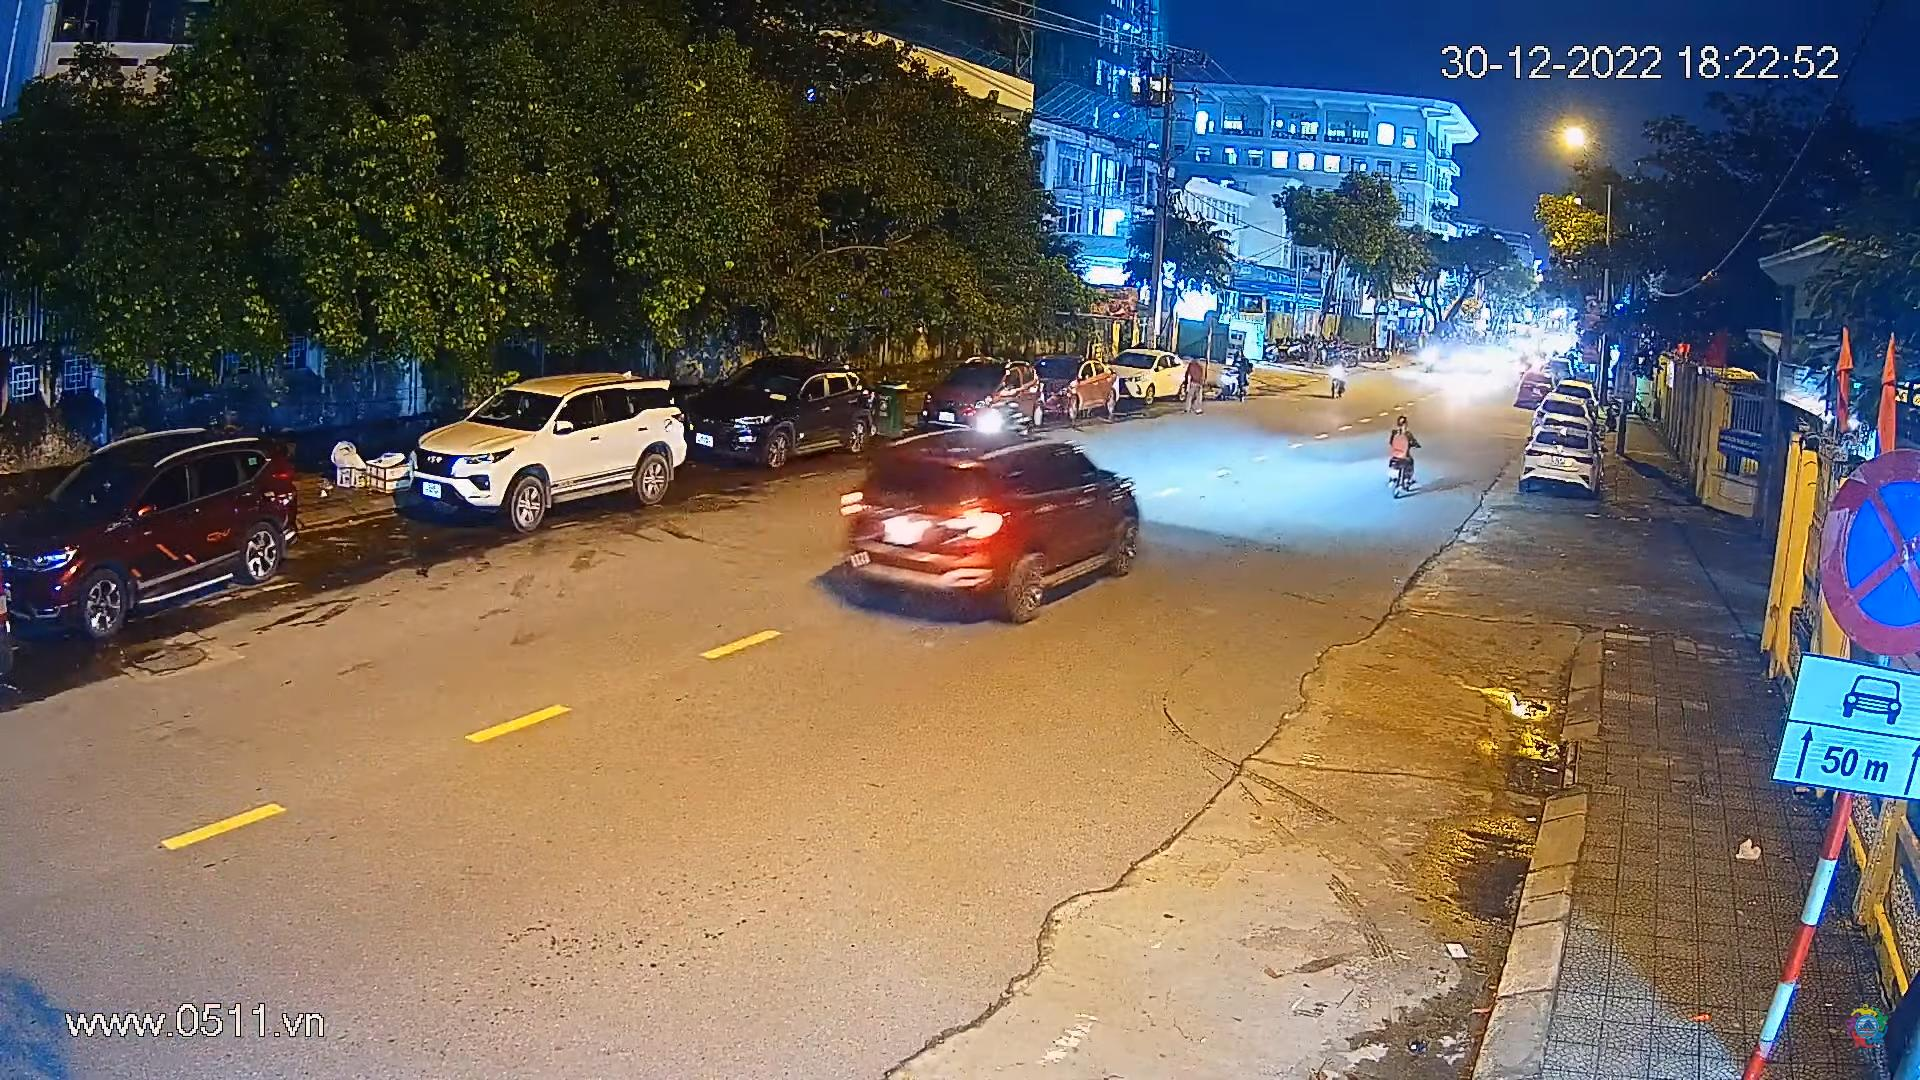car: (827, 422, 1147, 633), (0, 421, 301, 645), (400, 356, 691, 554), (683, 347, 885, 484), (910, 355, 1052, 444), (1097, 340, 1201, 406), (1035, 351, 1126, 419), (1516, 423, 1600, 495), (1513, 372, 1552, 409), (1536, 394, 1592, 419)
motorcycle: (1374, 406, 1432, 506), (1216, 345, 1253, 405), (1319, 349, 1350, 410)
